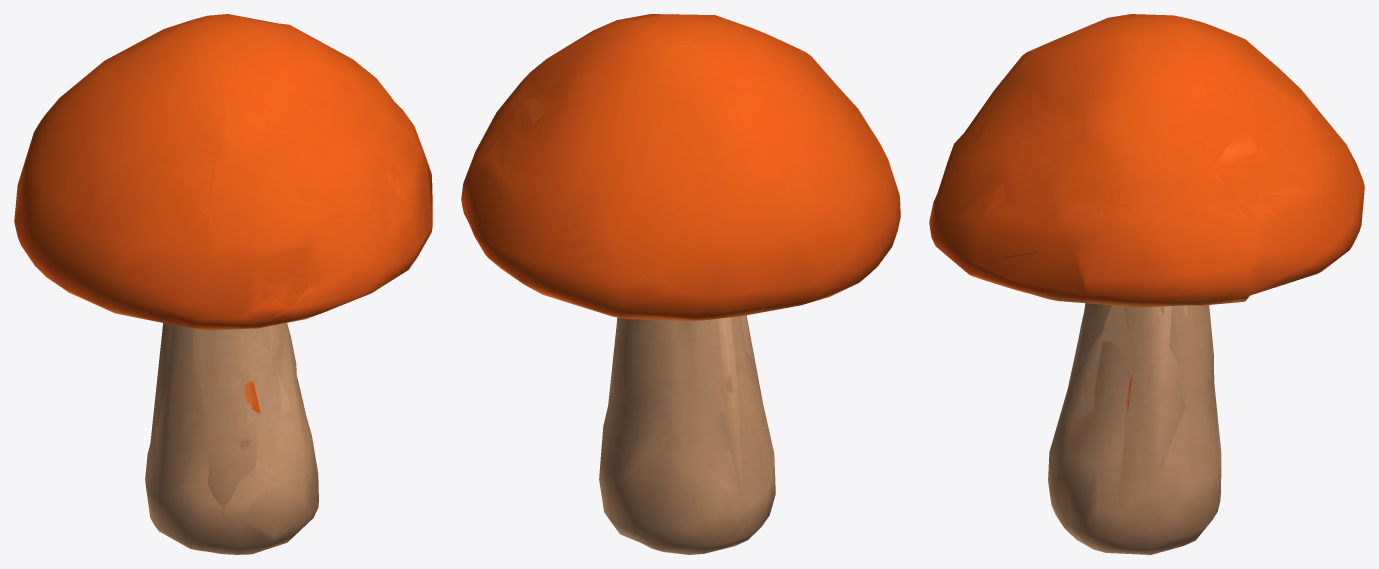
File: cave-mushroom-bell.glb
3 views of the same model, side by side, from view 1: azimuth 30°, elevation 25°; view 2: azimuth 150°, elevation 25°; view 3: azimuth 270°, elevation 25° (orthographic). The views are drawn at different scales.
Parts seen in each view (by area): view 1: cave-mushroom-bell, coarse; view 2: cave-mushroom-bell, coarse; view 3: cave-mushroom-bell, coarse.
Part boxes in pixels (x1,y1,x2,y2): cave-mushroom-bell: (14,14,432,554); coarse: (137,30,423,517); cave-mushroom-bell: (461,14,900,554); coarse: (482,17,835,504); cave-mushroom-bell: (929,14,1364,554); coarse: (964,26,1308,550).
Size of the model in its own units: 0.7744 by 0.9985 by 0.7783.
1 material, 1 textured.
